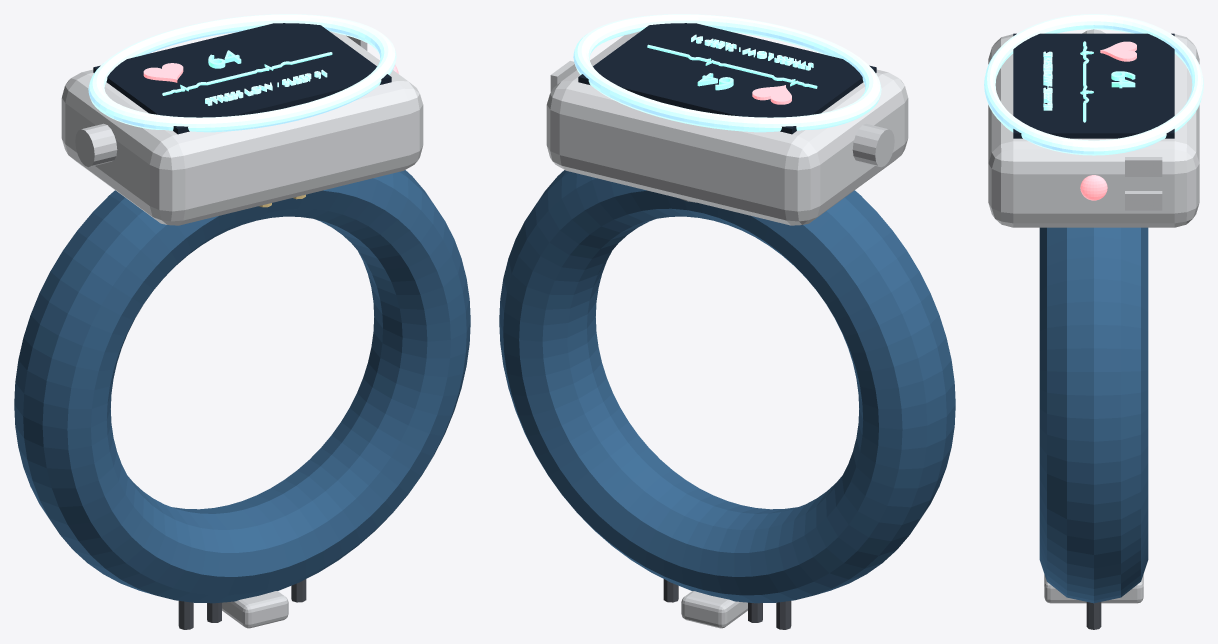
Rendered from ai_wristband.glb.
3 views of the same model, side by side, from view 1: azimuth 30°, elevation 25°; view 2: azimuth 150°, elevation 25°; view 3: azimuth 270°, elevation 25° (orthographic). The views are drawn at different scales.
Visible parts, largest first — view 1: Band, Pod, Screen, Mood_Ring, Clasp, SOS_Button, Stress_Text, HR_Trace; view 2: Band, Pod, Screen, Mood_Ring, Clasp, SOS_Button, Stress_Text, HR_Trace; view 3: Band, Pod, Screen, Mood_Ring, Clasp, Side_Button, Side_Button.001, Stress_Text, Emergency_LED, HR_Icon, Strap_Hole.004, HR_Trace (+1 smaller).
Part boxes in pixels (x1=…): Band: x1=14, y1=170, x2=470, y2=603; Pod: x1=61, y1=31, x2=423, y2=225; Screen: x1=93, y1=23, x2=391, y2=134; Mood_Ring: x1=88, y1=14, x2=396, y2=132; Clasp: x1=222, y1=591, x2=288, y2=628; SOS_Button: x1=75, y1=123, x2=117, y2=167; Stress_Text: x1=205, y1=69, x2=327, y2=105; HR_Trace: x1=162, y1=52, x2=332, y2=95; Band: x1=499, y1=170, x2=955, y2=603; Pod: x1=546, y1=31, x2=908, y2=225; Screen: x1=578, y1=23, x2=876, y2=134; Mood_Ring: x1=573, y1=14, x2=881, y2=132; Clasp: x1=681, y1=591, x2=747, y2=628; SOS_Button: x1=852, y1=123, x2=894, y2=167; Stress_Text: x1=691, y1=34, x2=813, y2=70; HR_Trace: x1=647, y1=44, x2=817, y2=88; Band: x1=1039, y1=227, x2=1148, y2=603; Pod: x1=988, y1=34, x2=1199, y2=227; Screen: x1=1013, y1=33, x2=1174, y2=138; Mood_Ring: x1=984, y1=14, x2=1203, y2=155; Clasp: x1=1044, y1=574, x2=1143, y2=603; Side_Button: x1=1125, y1=191, x2=1162, y2=210; Side_Button.001: x1=1125, y1=157, x2=1162, y2=176; Stress_Text: x1=1043, y1=51, x2=1052, y2=110; Emergency_LED: x1=1080, y1=175, x2=1107, y2=200; HR_Icon: x1=1100, y1=41, x2=1136, y2=61; Strap_Hole.004: x1=1086, y1=602, x2=1101, y2=629; HR_Trace: x1=1080, y1=41, x2=1093, y2=122.
Bounding box in the file's own units: 0.078 × 0.0929 × 0.0354.
